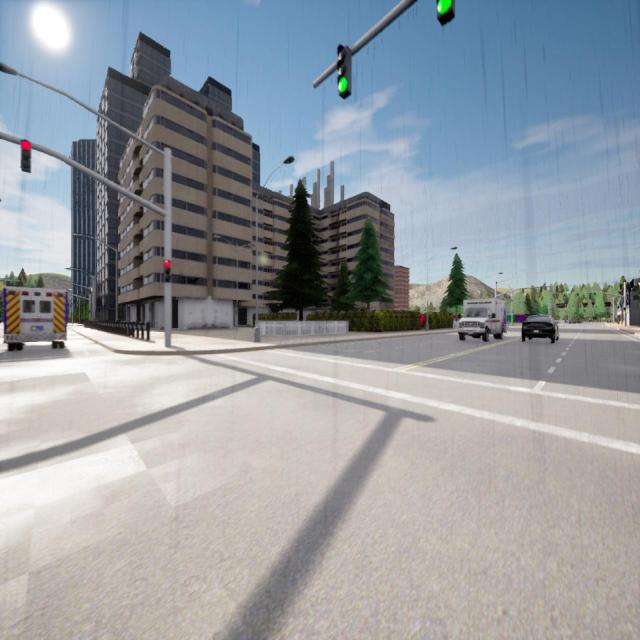Vehicle: (4, 287, 66, 351), (458, 300, 506, 340), (522, 315, 558, 342), (566, 320, 573, 324), (575, 320, 581, 324), (589, 318, 593, 323)
traffic_light: (338, 44, 351, 99), (436, 0, 454, 26), (22, 140, 31, 172), (163, 261, 170, 281), (594, 292, 596, 298), (540, 287, 542, 292), (577, 294, 579, 298), (522, 289, 524, 293), (556, 286, 557, 291), (624, 308, 625, 312), (564, 294, 565, 298)
